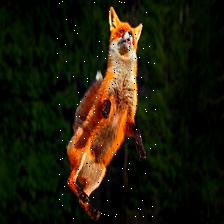fox: (57, 1, 156, 224)
